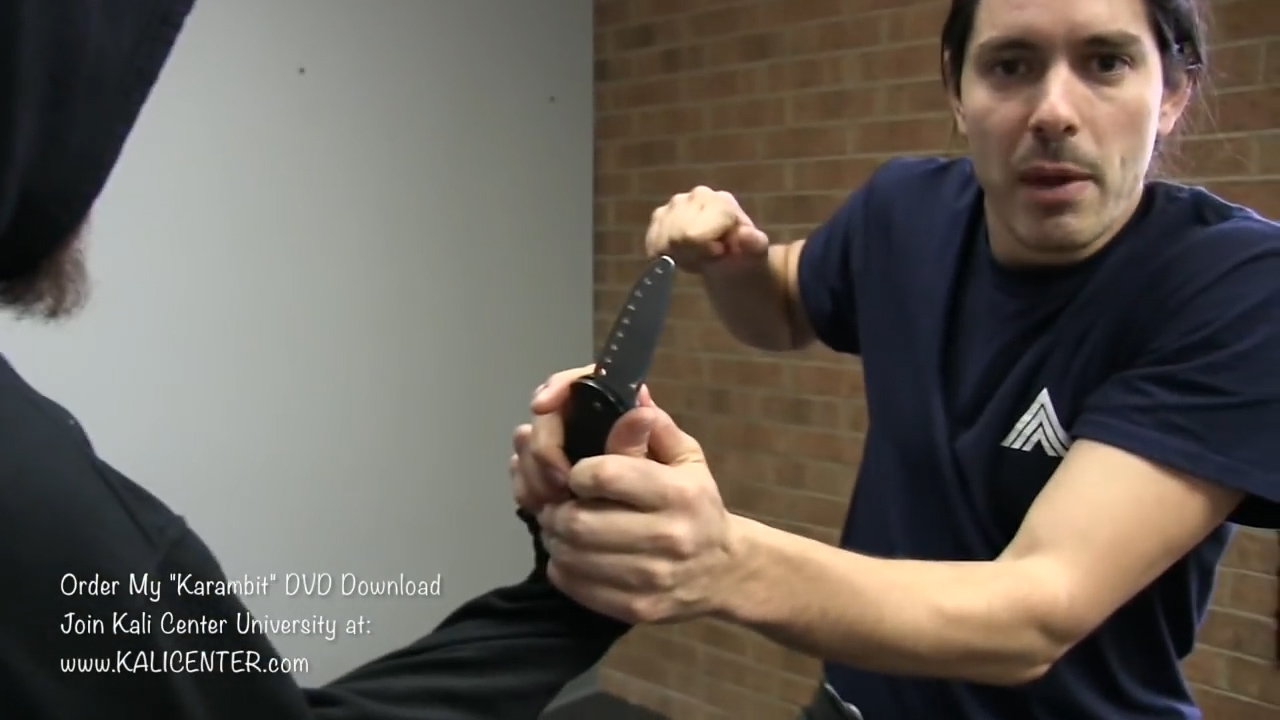knife: (498, 242, 688, 503)
